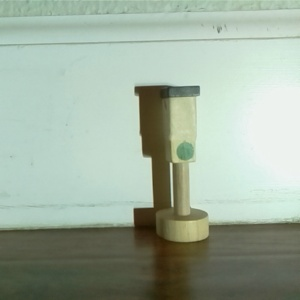traffic light green: (148, 82, 213, 243)
